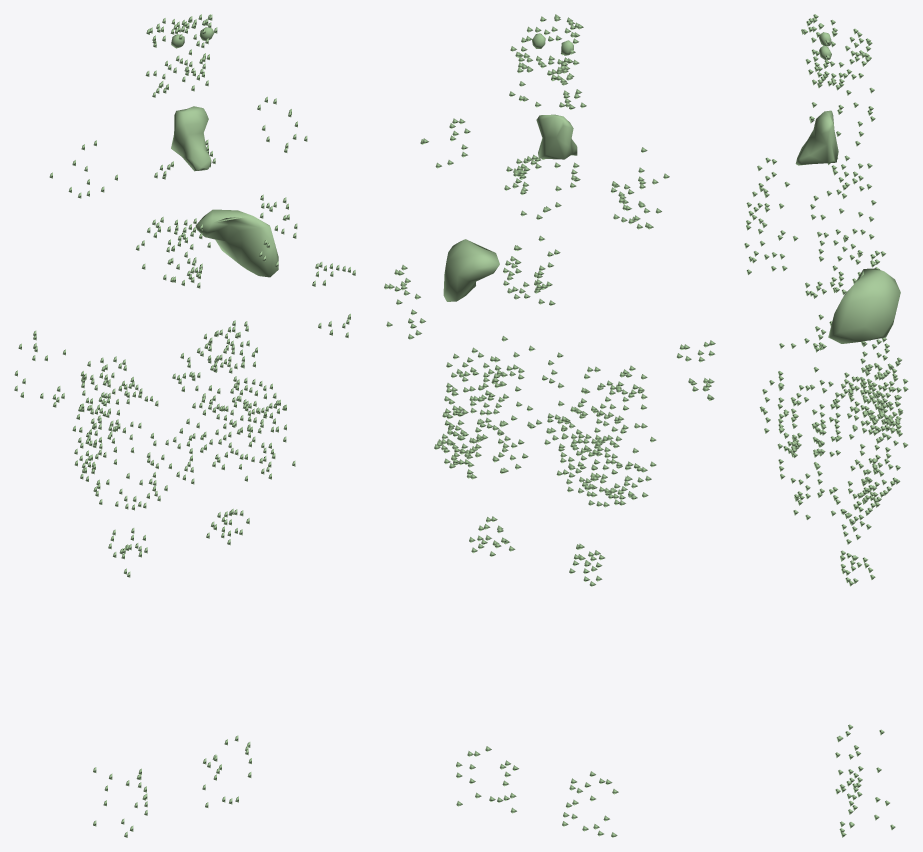
Rendered from pediatric_child_10y_female.lymphatic.LOD3.glb.
3 renders of one model, left to right at view 1: azimuth 30°, elevation 25°; view 2: azimuth 150°, elevation 25°; view 3: azimuth 270°, elevation 25°, orthographic. The views are drawn at different scales.
Visible parts, largest first — view 1: PEDIATRIC.CHILD_10Y.FEMALE.LYMPHATIC.LYMPHATIC_NODES_TRUNK, PEDIATRIC.CHILD_10Y.FEMALE.LYMPHATIC.SPLEEN, PEDIATRIC.CHILD_10Y.FEMALE.LYMPHATIC.THYMUS, PEDIATRIC.CHILD_10Y.FEMALE.LYMPHATIC.LYMPHATIC_NODES_ET, PEDIATRIC.CHILD_10Y.FEMALE.LYMPHATIC.LYMPHATIC_NODES_THORACI, PEDIATRIC.CHILD_10Y.FEMALE.LYMPHATIC.LYMPHATIC_NODES_LEGS, PEDIATRIC.CHILD_10Y.FEMALE.LYMPHATIC.LYMPHATIC_NODES_ARMS; view 2: PEDIATRIC.CHILD_10Y.FEMALE.LYMPHATIC.LYMPHATIC_NODES_TRUNK, PEDIATRIC.CHILD_10Y.FEMALE.LYMPHATIC.SPLEEN, PEDIATRIC.CHILD_10Y.FEMALE.LYMPHATIC.THYMUS, PEDIATRIC.CHILD_10Y.FEMALE.LYMPHATIC.LYMPHATIC_NODES_THORACI, PEDIATRIC.CHILD_10Y.FEMALE.LYMPHATIC.LYMPHATIC_NODES_ET, PEDIATRIC.CHILD_10Y.FEMALE.LYMPHATIC.LYMPHATIC_NODES_LEGS, PEDIATRIC.CHILD_10Y.FEMALE.LYMPHATIC.LYMPHATIC_NODES_ARMS; view 3: PEDIATRIC.CHILD_10Y.FEMALE.LYMPHATIC.LYMPHATIC_NODES_TRUNK, PEDIATRIC.CHILD_10Y.FEMALE.LYMPHATIC.SPLEEN, PEDIATRIC.CHILD_10Y.FEMALE.LYMPHATIC.THYMUS, PEDIATRIC.CHILD_10Y.FEMALE.LYMPHATIC.LYMPHATIC_NODES_ET, PEDIATRIC.CHILD_10Y.FEMALE.LYMPHATIC.LYMPHATIC_NODES_ARMS, PEDIATRIC.CHILD_10Y.FEMALE.LYMPHATIC.LYMPHATIC_NODES_THORACI, PEDIATRIC.CHILD_10Y.FEMALE.LYMPHATIC.LYMPHATIC_NODES_LEGS, PEDIATRIC.CHILD_10Y.FEMALE.LYMPHATIC.LYMPHATIC_NODES_HEAD.
Part boxes in pixels (x1,y1,x2,y2): PEDIATRIC.CHILD_10Y.FEMALE.LYMPHATIC.LYMPHATIC_NODES_TRUNK: [49, 96, 307, 577]; PEDIATRIC.CHILD_10Y.FEMALE.LYMPHATIC.SPLEEN: [195, 209, 278, 277]; PEDIATRIC.CHILD_10Y.FEMALE.LYMPHATIC.THYMUS: [171, 106, 211, 171]; PEDIATRIC.CHILD_10Y.FEMALE.LYMPHATIC.LYMPHATIC_NODES_ET: [146, 14, 217, 76]; PEDIATRIC.CHILD_10Y.FEMALE.LYMPHATIC.LYMPHATIC_NODES_THORACI: [141, 139, 215, 288]; PEDIATRIC.CHILD_10Y.FEMALE.LYMPHATIC.LYMPHATIC_NODES_LEGS: [93, 735, 251, 837]; PEDIATRIC.CHILD_10Y.FEMALE.LYMPHATIC.LYMPHATIC_NODES_ARMS: [14, 262, 355, 407]; PEDIATRIC.CHILD_10Y.FEMALE.LYMPHATIC.LYMPHATIC_NODES_TRUNK: [420, 118, 669, 586]; PEDIATRIC.CHILD_10Y.FEMALE.LYMPHATIC.SPLEEN: [443, 239, 499, 301]; PEDIATRIC.CHILD_10Y.FEMALE.LYMPHATIC.THYMUS: [536, 114, 577, 159]; PEDIATRIC.CHILD_10Y.FEMALE.LYMPHATIC.LYMPHATIC_NODES_THORACI: [503, 154, 580, 305]; PEDIATRIC.CHILD_10Y.FEMALE.LYMPHATIC.LYMPHATIC_NODES_ET: [510, 14, 583, 80]; PEDIATRIC.CHILD_10Y.FEMALE.LYMPHATIC.LYMPHATIC_NODES_LEGS: [456, 746, 618, 837]; PEDIATRIC.CHILD_10Y.FEMALE.LYMPHATIC.LYMPHATIC_NODES_ARMS: [384, 265, 715, 400]; PEDIATRIC.CHILD_10Y.FEMALE.LYMPHATIC.LYMPHATIC_NODES_TRUNK: [744, 80, 908, 586]; PEDIATRIC.CHILD_10Y.FEMALE.LYMPHATIC.SPLEEN: [828, 268, 900, 343]; PEDIATRIC.CHILD_10Y.FEMALE.LYMPHATIC.THYMUS: [795, 110, 838, 165]; PEDIATRIC.CHILD_10Y.FEMALE.LYMPHATIC.LYMPHATIC_NODES_ET: [801, 14, 872, 85]; PEDIATRIC.CHILD_10Y.FEMALE.LYMPHATIC.LYMPHATIC_NODES_ARMS: [805, 231, 856, 442]; PEDIATRIC.CHILD_10Y.FEMALE.LYMPHATIC.LYMPHATIC_NODES_THORACI: [821, 155, 885, 294]; PEDIATRIC.CHILD_10Y.FEMALE.LYMPHATIC.LYMPHATIC_NODES_LEGS: [835, 724, 895, 837]; PEDIATRIC.CHILD_10Y.FEMALE.LYMPHATIC.LYMPHATIC_NODES_HEAD: [812, 62, 874, 114].
Size of the model in its own units: 0.3942 by 0.9155 by 0.1713.
